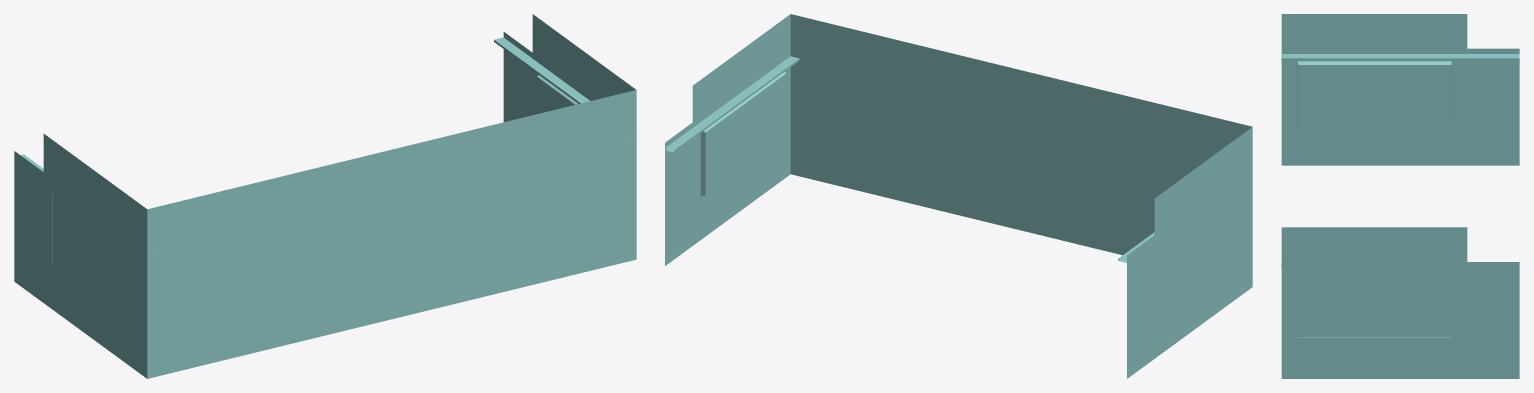
File: TS2_Collider_Csd_QiangMian.FBX
3 views of the same model, side by side, from view 1: azimuth 30°, elevation 25°; view 2: azimuth 150°, elevation 25°; view 3: azimuth 270°, elevation 25° (orthographic). The views are drawn at different scales.
Visible parts, largest first — view 1: TS2_Collider_Csd_QiangMian; view 2: TS2_Collider_Csd_QiangMian; view 3: TS2_Collider_Csd_QiangMian.
Part boxes in pixels (x1,y1,x2,y2): TS2_Collider_Csd_QiangMian: (14,14,636,378); TS2_Collider_Csd_QiangMian: (665,14,1252,378); TS2_Collider_Csd_QiangMian: (1281,14,1519,378).
Bounding box in the file's own units: 18.54 × 6.14 × 8.74.
